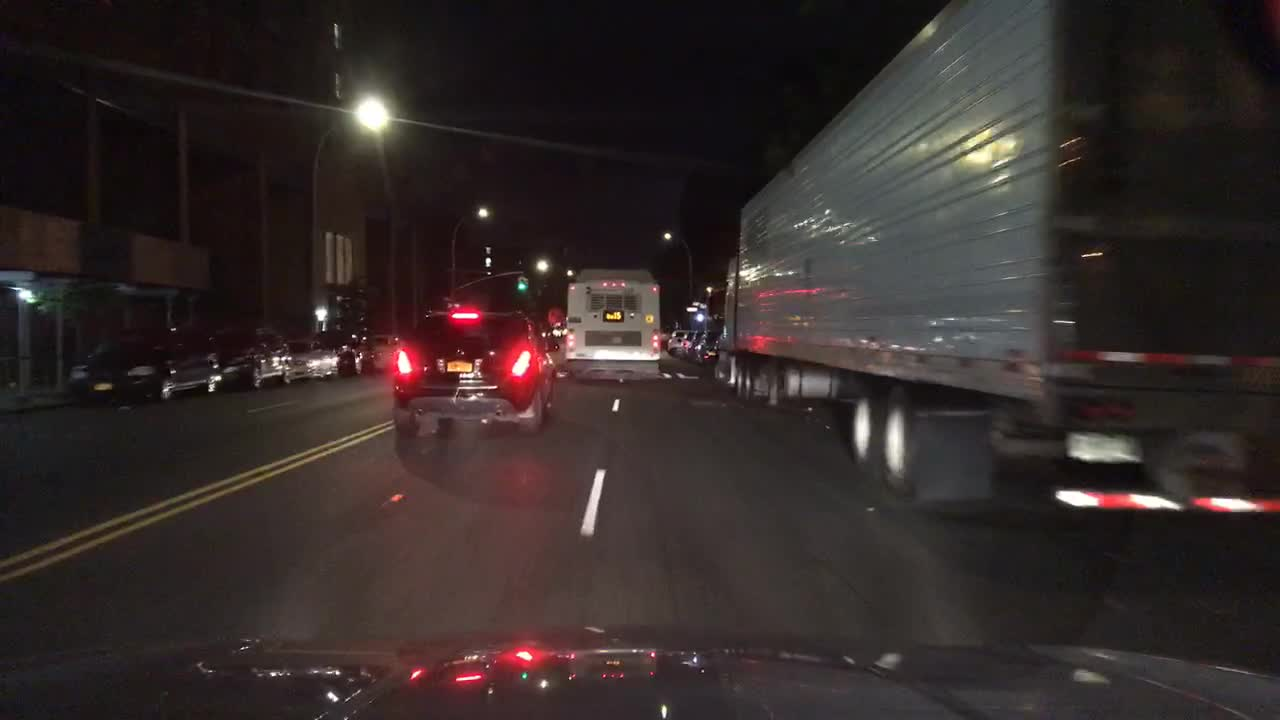car: (390, 309, 556, 436), (67, 321, 218, 407), (214, 325, 292, 387), (317, 328, 379, 372), (288, 337, 340, 378), (369, 334, 402, 369), (699, 329, 723, 366), (685, 329, 709, 361), (540, 323, 565, 349), (668, 328, 686, 357), (679, 328, 695, 360), (553, 321, 572, 340), (659, 333, 671, 349)
traffic light: (515, 275, 529, 292)
traffic sign: (691, 301, 709, 309)
truck: (715, 0, 1278, 514), (565, 266, 662, 381)
